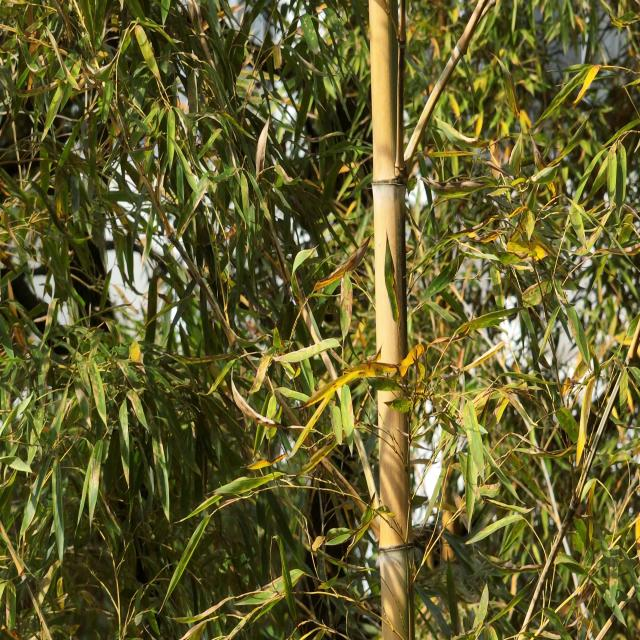Bamboo-shoots: (368, 0, 417, 640)
